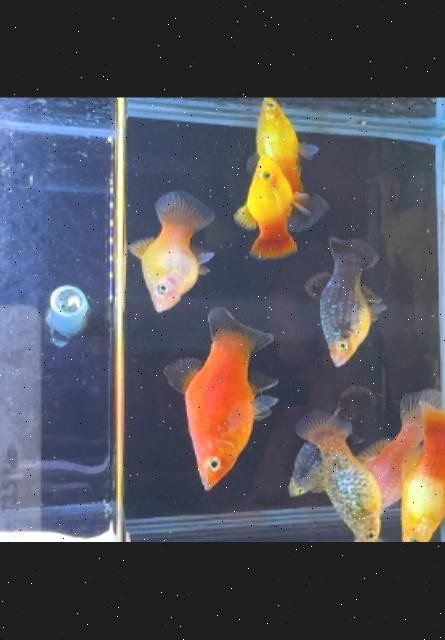Mulut: (194, 473, 236, 500), (147, 292, 176, 322), (253, 146, 286, 168), (327, 349, 354, 374)
Sirip Anal: (244, 363, 286, 394)
Sirip Dada: (218, 398, 254, 436), (172, 247, 197, 282)
Sirip Ekor: (201, 300, 282, 354), (148, 184, 222, 231), (286, 408, 360, 448), (324, 232, 385, 266), (245, 233, 300, 266), (410, 394, 445, 435)
Sirip Perut: (286, 185, 324, 218), (248, 392, 280, 424), (292, 134, 324, 164), (366, 295, 396, 318)
Sirip Punggung: (156, 350, 211, 399), (230, 194, 263, 238), (120, 229, 158, 266), (294, 270, 334, 302), (393, 445, 426, 478)
